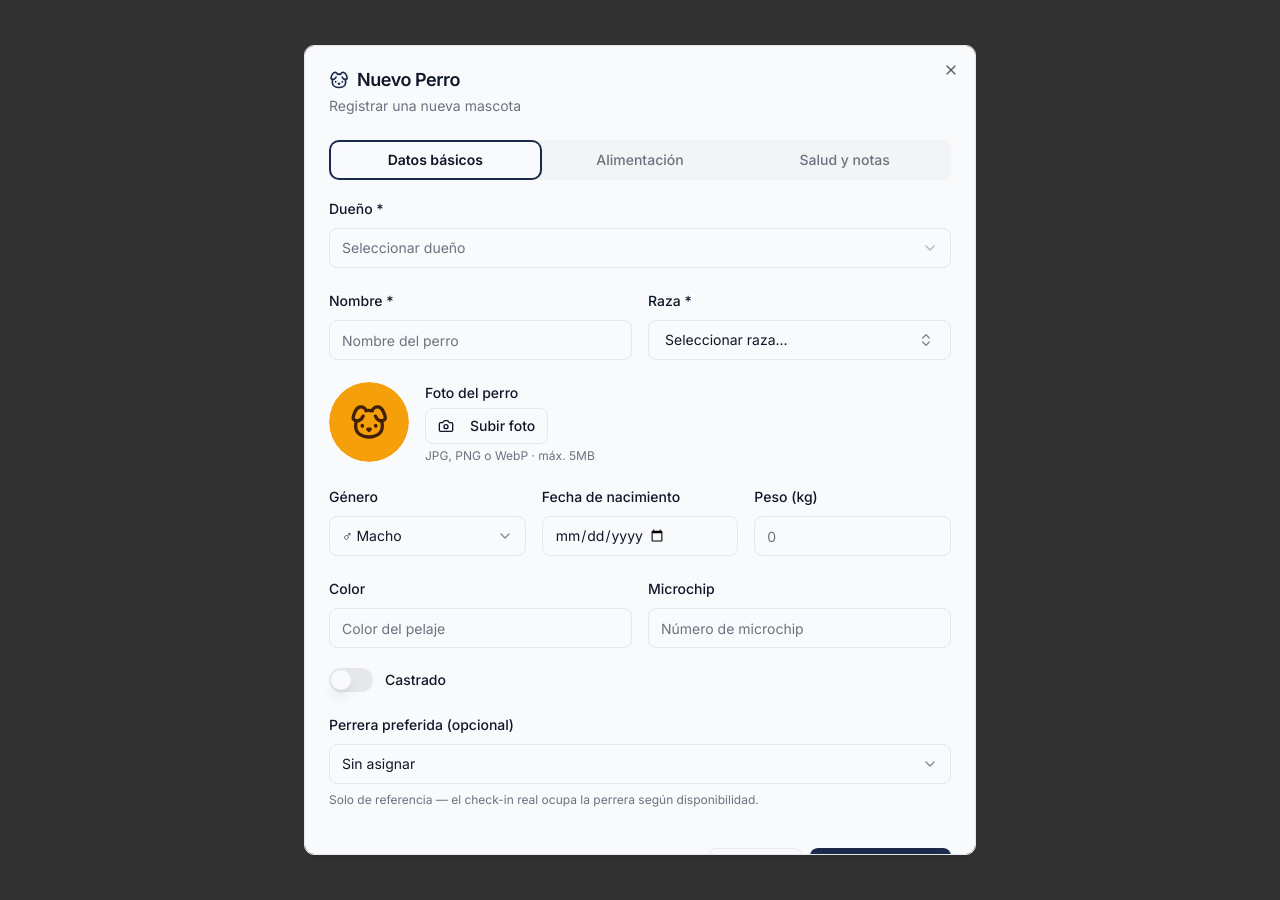
Test: DogModal — tabs y formulario clínico › la Alimentación (obligatoria) tiene su propio tab, ya no está al final
The width and height of the screenshot is (1280, 900).
Press the mouse on the tab "Alimentación" at (640,160), box [538,144,742,176]
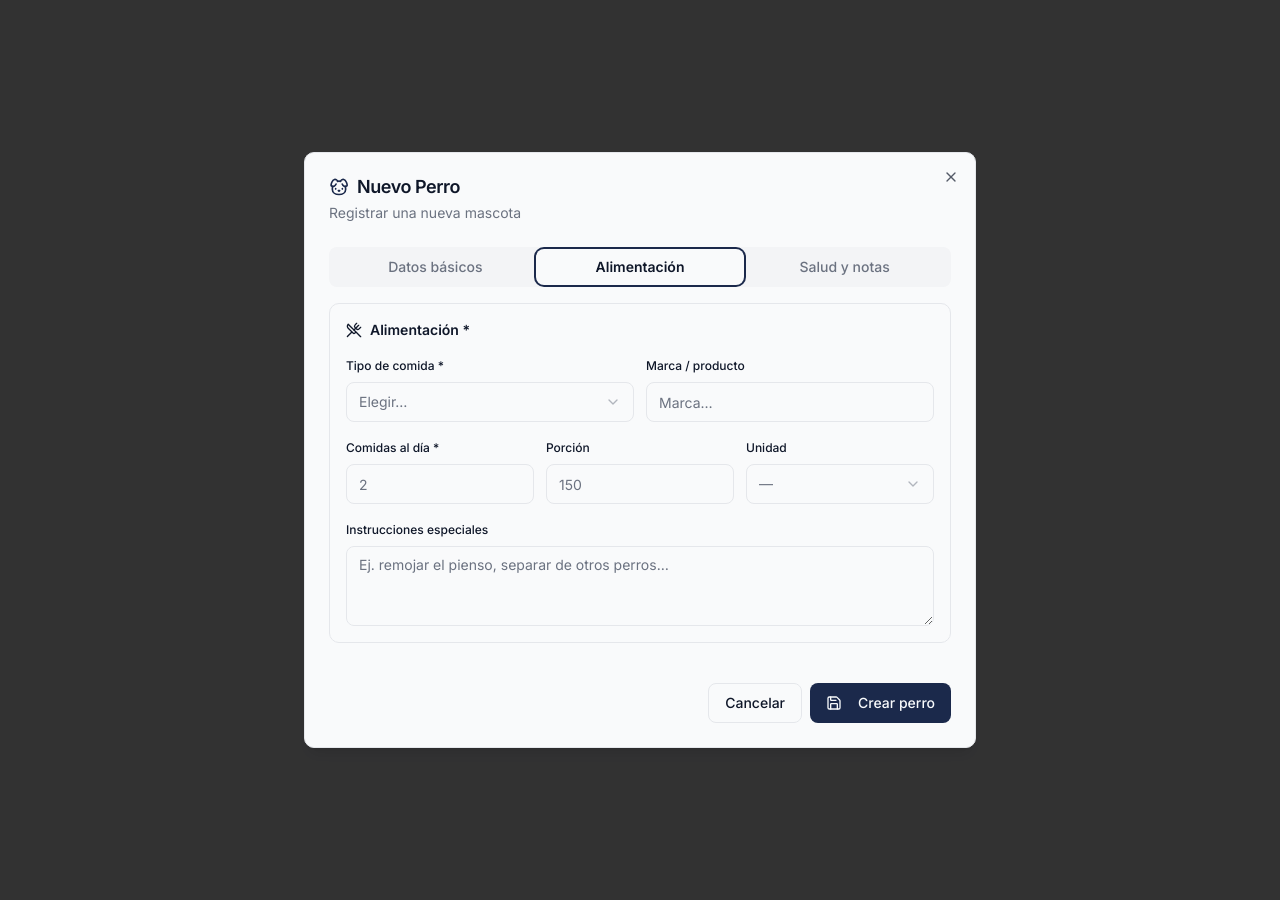
Expected: the text "Tipo de comida *" is shown, [346,358,444,373]
